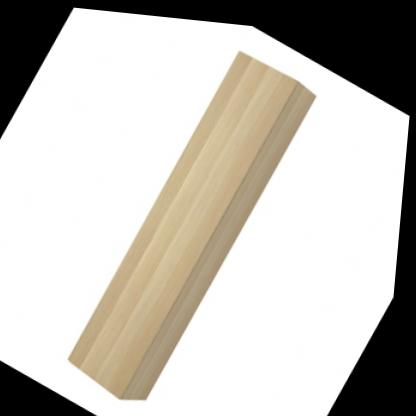Cabinet: (62, 26, 326, 416)
